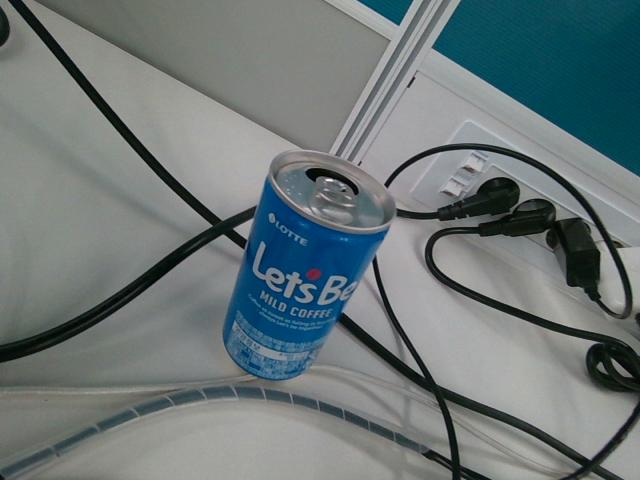letsbe: (221, 148, 396, 380)
